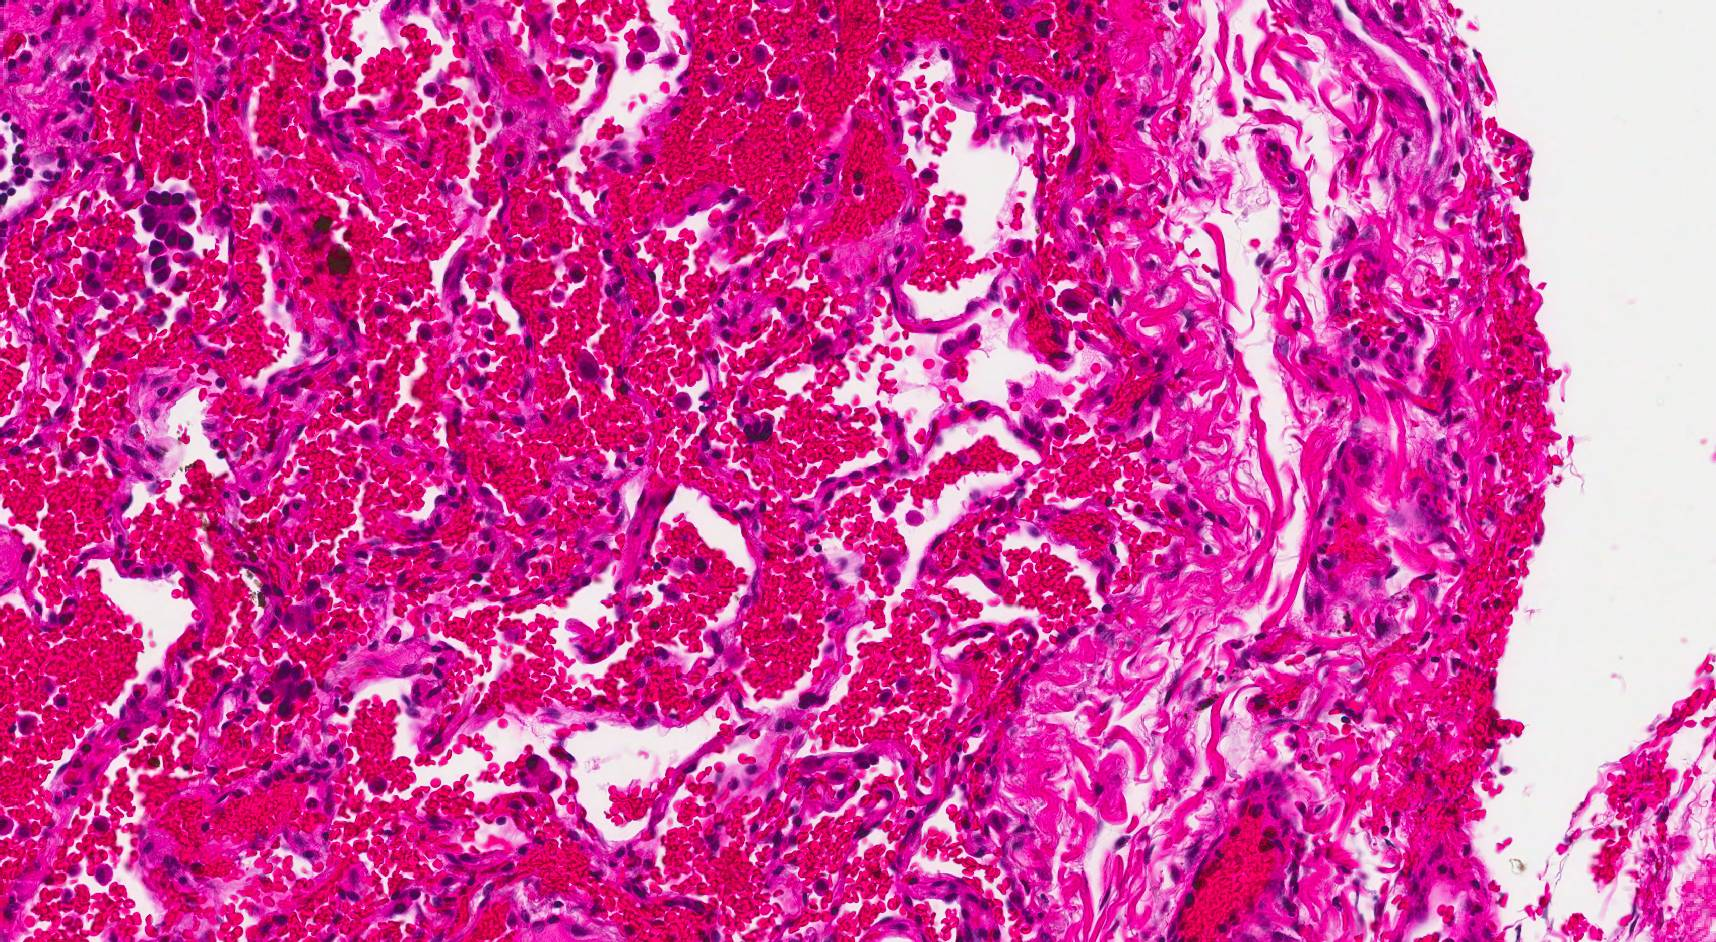stas: (139, 184, 198, 287), (256, 660, 314, 724)
